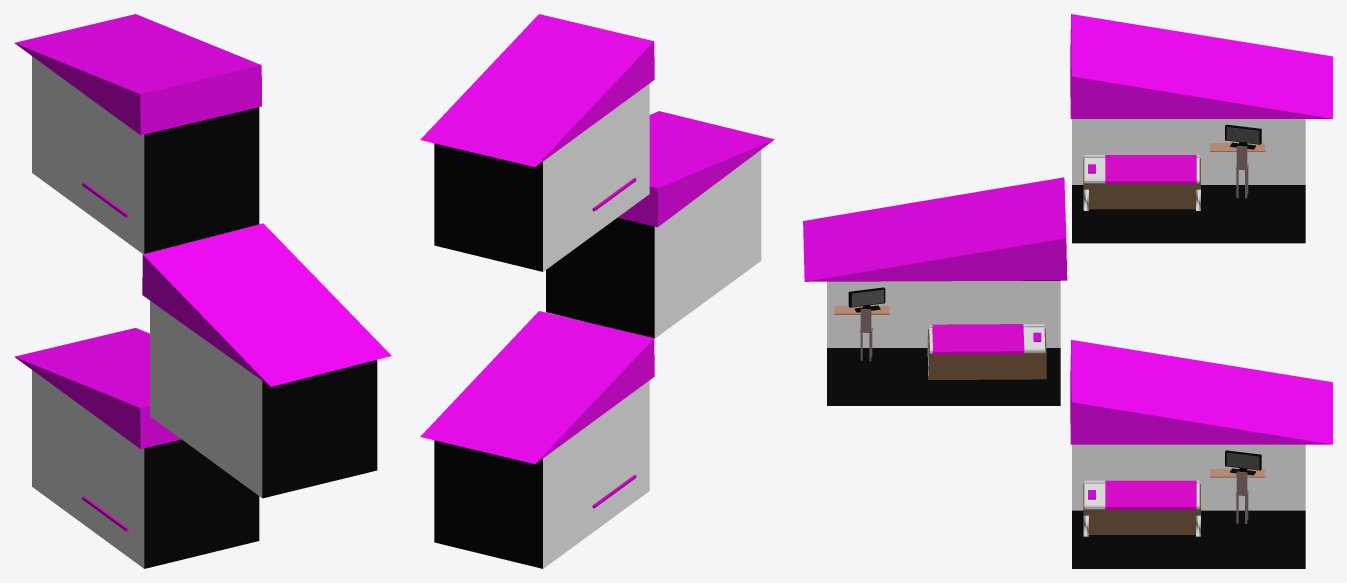
Rendered from 3dmodel_room.glb.
3 views of the same model, side by side, from view 1: azimuth 30°, elevation 25°; view 2: azimuth 150°, elevation 25°; view 3: azimuth 270°, elevation 25° (orthographic). The views are drawn at different scales.
Visible parts, largest first — view 1: RoomCube.002, RoomCube.001, RoomCube, Cube.013, Cube.025, Cube.010; view 2: RoomCube.002, RoomCube, RoomCube.001, Cube.010, Cube.025, Cube.013; view 3: Cube.010, Cube.025, Cube.013, RoomCube, RoomCube.002, RoomCube.001, Cube.022, Cube.008, Cube.027, Bed.003, Bed.004, Bed.005 (+6 smaller).
Part boxes in pixels (x1,y1,x2,y2): RoomCube.002: [32, 56, 259, 254]; RoomCube.001: [150, 301, 377, 498]; RoomCube: [32, 370, 259, 568]; Cube.013: [142, 223, 391, 386]; Cube.025: [14, 14, 261, 135]; Cube.010: [14, 328, 181, 449]; RoomCube.002: [434, 83, 649, 271]; RoomCube: [434, 380, 649, 568]; RoomCube.001: [546, 150, 761, 338]; Cube.010: [420, 311, 654, 463]; Cube.025: [420, 14, 654, 166]; Cube.013: [618, 111, 774, 227]; Cube.010: [1070, 340, 1332, 444]; Cube.025: [1070, 14, 1332, 118]; Cube.013: [803, 177, 1067, 281]; RoomCube: [1072, 444, 1305, 568]; RoomCube.002: [1072, 119, 1305, 243]; RoomCube.001: [827, 280, 1060, 405]; Cube.022: [932, 324, 1024, 354]; Cube.008: [1105, 480, 1196, 509]; Cube.027: [1105, 155, 1196, 183]; Bed.003: [928, 328, 1046, 362]; Bed.004: [929, 362, 1046, 371]; Bed.005: [929, 370, 1046, 379].
Bounding box in the file's own units: 9.1 × 33.4 × 32.43.
